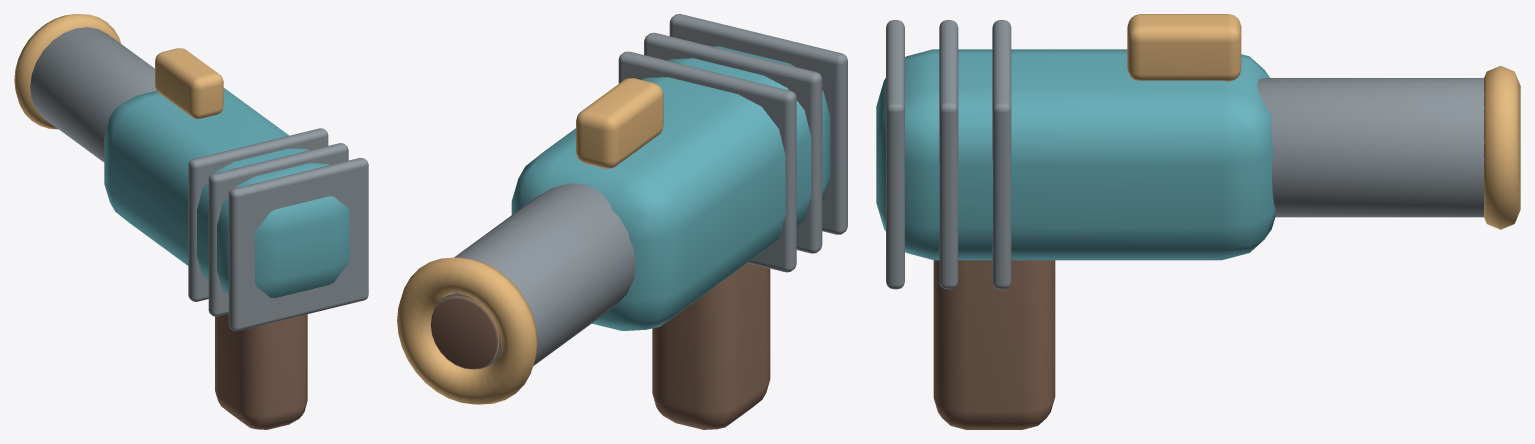
Rendered from weapon_blaster_soft.glb.
3 renders of one model, left to right at view 1: azimuth 30°, elevation 25°; view 2: azimuth 150°, elevation 25°; view 3: azimuth 270°, elevation 25°, orthographic. The views are drawn at different scales.
Parts seen in each view (by area): view 1: weapon_blaster_soft; view 2: weapon_blaster_soft; view 3: weapon_blaster_soft.
Part boxes in pixels (x1=…): weapon_blaster_soft: x1=14, y1=14, x2=368, y2=429; weapon_blaster_soft: x1=397, y1=14, x2=847, y2=429; weapon_blaster_soft: x1=876, y1=14, x2=1520, y2=429.
Bounding box in the file's own units: 0.275 × 0.58 × 0.847.
